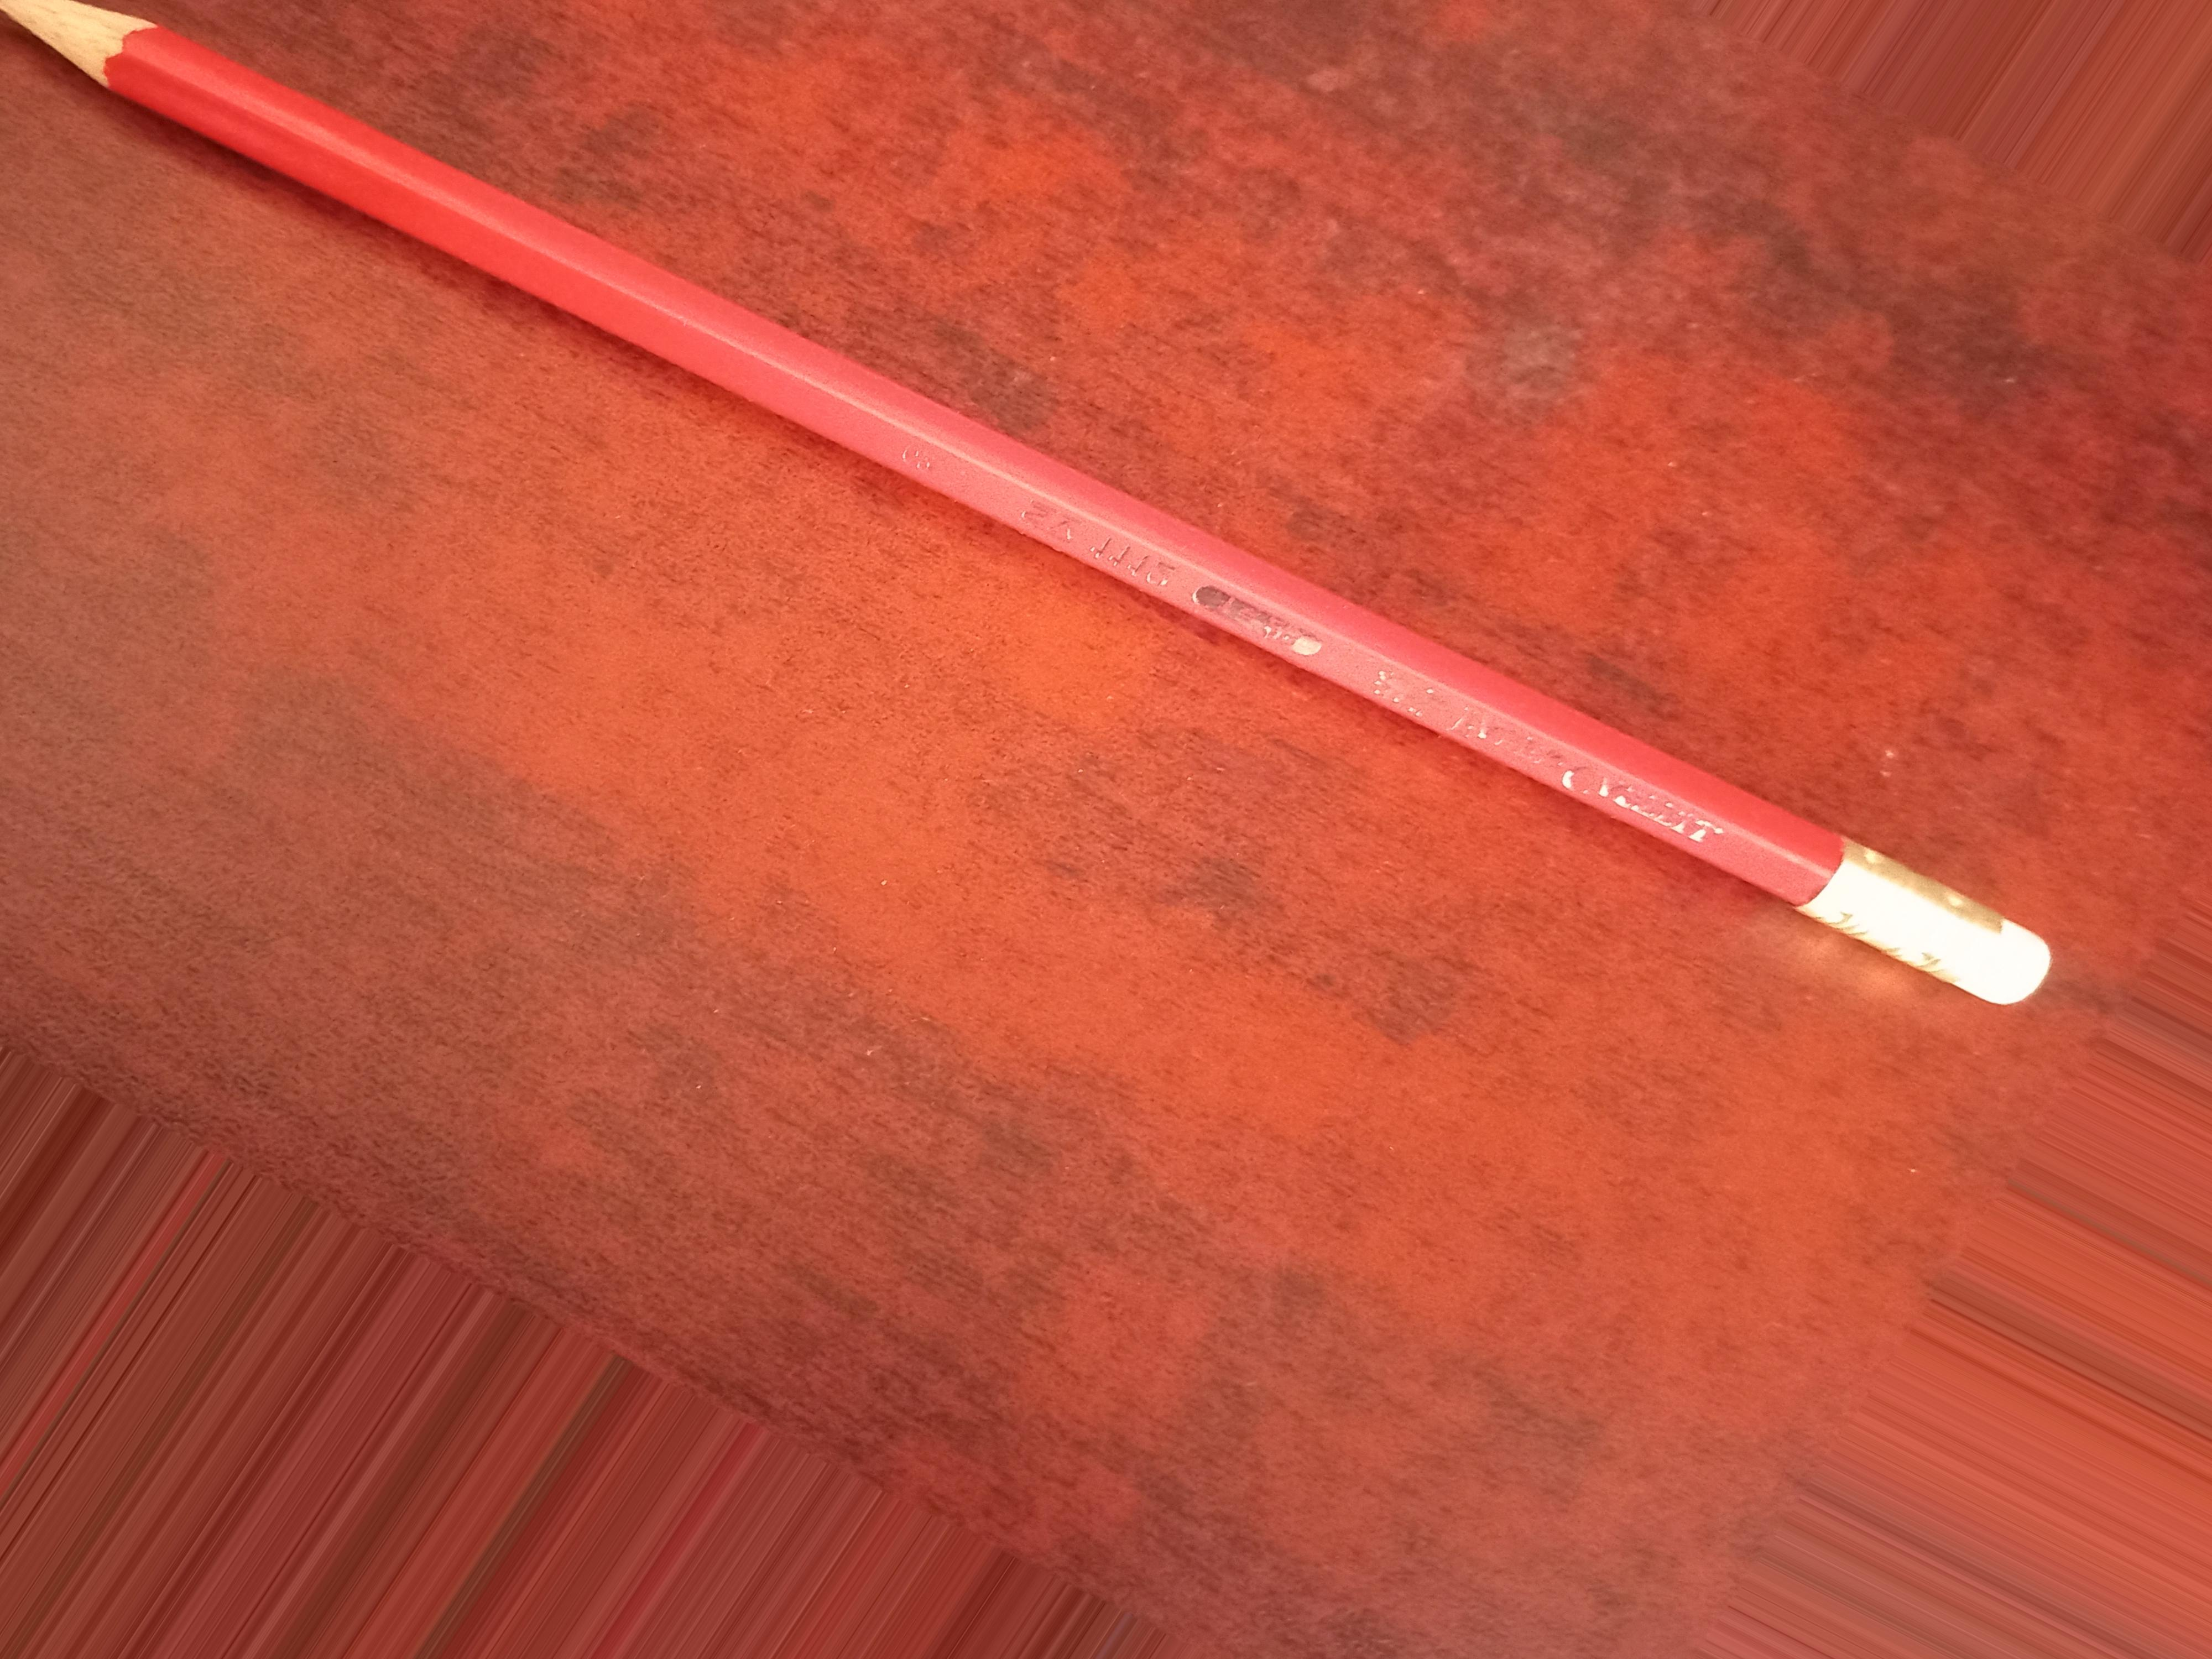pencil: (0, 0, 2078, 1012)
